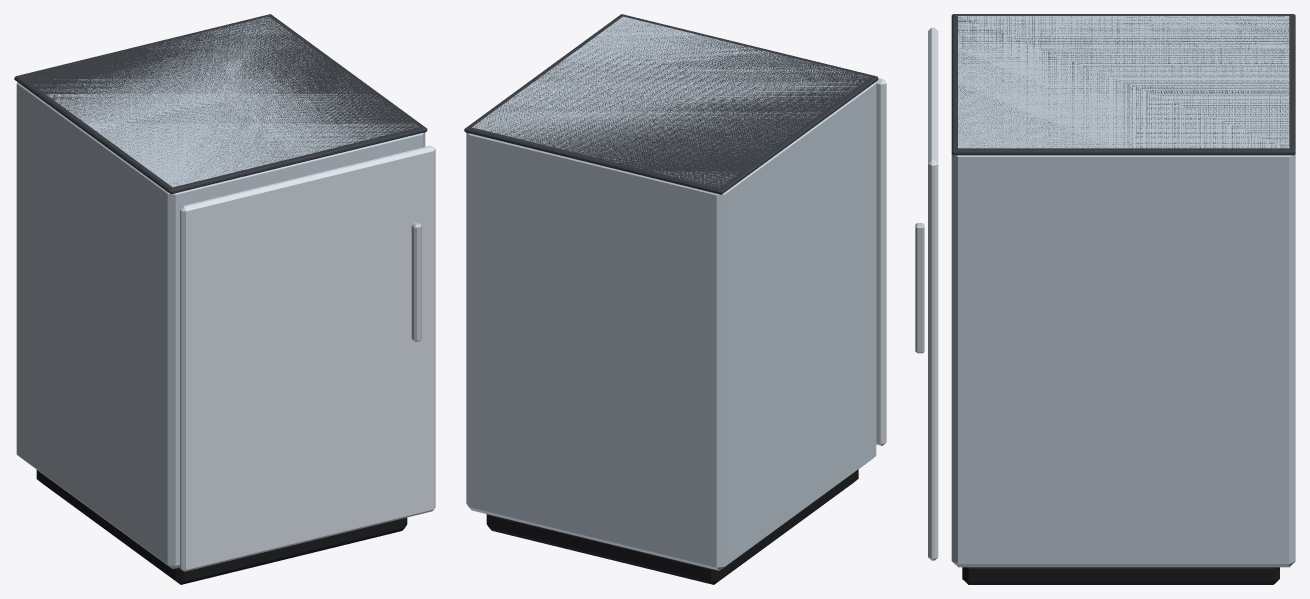
File: mini_fridge.glb
3 renders of one model, left to right at view 1: azimuth 30°, elevation 25°; view 2: azimuth 150°, elevation 25°; view 3: azimuth 270°, elevation 25°, orthographic. The views are drawn at different scales.
Parts seen in each view (by area): view 1: mini_fridge_Body; view 2: mini_fridge_Body; view 3: mini_fridge_Body.
Boxes of the visible parts, left/top/right/bottom form: mini_fridge_Body: left=14, top=14, right=435, bottom=584; mini_fridge_Body: left=464, top=14, right=886, bottom=584; mini_fridge_Body: left=915, top=14, right=1295, bottom=584.
Size of the model in its own units: 0.6 by 0.9 by 0.7.
